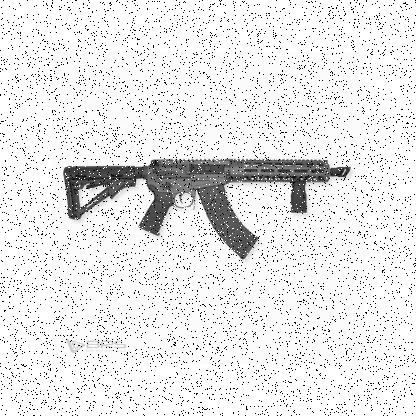gun: (61, 156, 350, 262)
